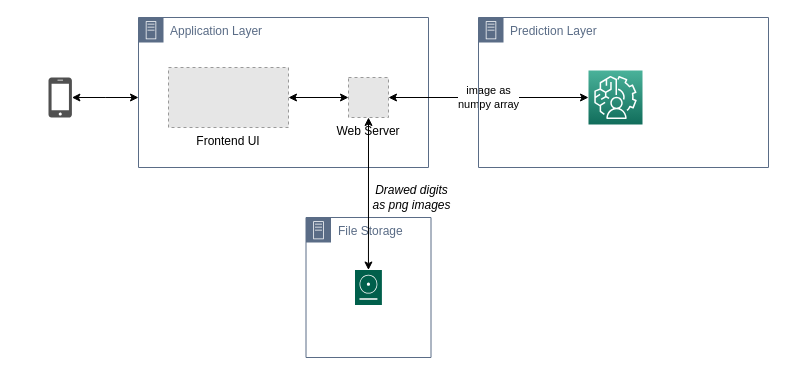
Some shapes in this 786 by 375 pixel diagram are drawn without their labels. Grey dashed boxes stand in for pictures. Each missing label, with the centre of its shape:
"Local Disk Storage" goes at (x=367, y=287).
"Prediction System" goes at (x=615, y=97).
"Sudoku Web Application" goes at (x=59, y=97).
